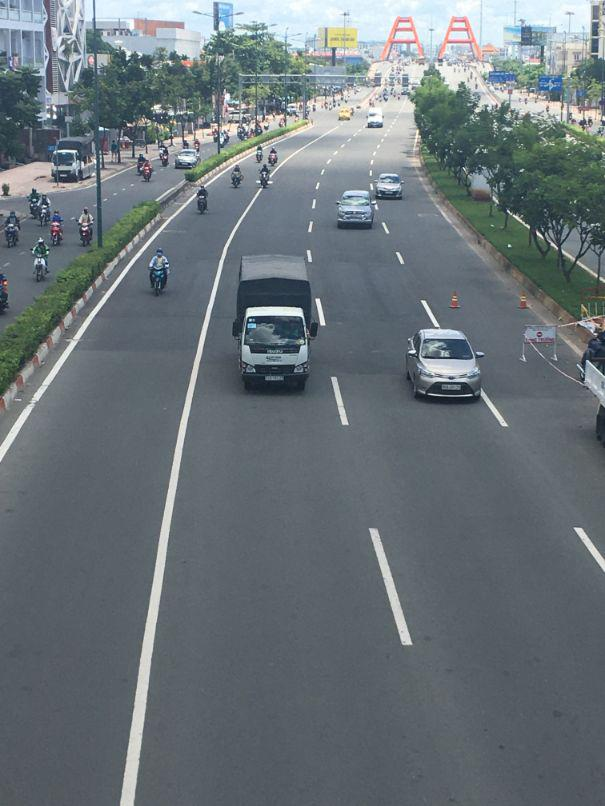car: (404, 329, 483, 402), (338, 190, 376, 230), (376, 173, 405, 200), (176, 152, 201, 170), (368, 113, 386, 130), (159, 147, 168, 167)
motorbike: (150, 265, 168, 296), (33, 254, 50, 282), (138, 155, 154, 181), (6, 223, 20, 247), (196, 188, 208, 214), (0, 275, 8, 314), (230, 167, 242, 187), (259, 166, 270, 187), (269, 149, 278, 166)
truck: (235, 250, 311, 395), (51, 140, 92, 186)
